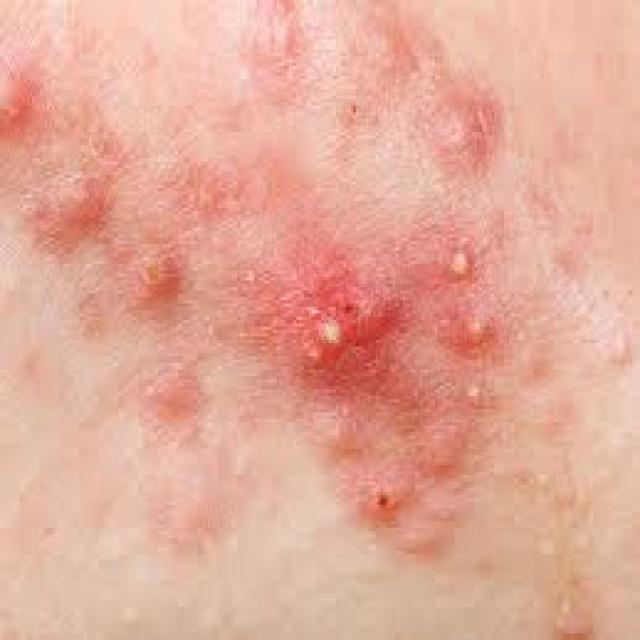Acne: (268, 238, 406, 400), (232, 0, 310, 104), (20, 172, 114, 252), (424, 92, 505, 180), (339, 451, 420, 529), (129, 354, 208, 424), (118, 244, 191, 308), (416, 406, 474, 482), (0, 54, 41, 149), (444, 302, 506, 363), (435, 220, 486, 293), (458, 368, 494, 416)
